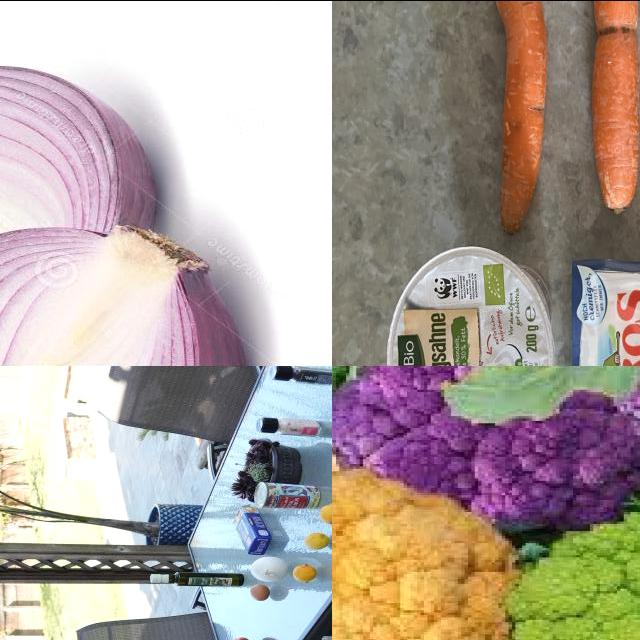bell_pepper: (268, 366, 333, 390)
carrot: (487, 1, 576, 232), (589, 1, 640, 232)
onion: (1, 65, 161, 364), (1, 221, 253, 366), (249, 557, 291, 581)
